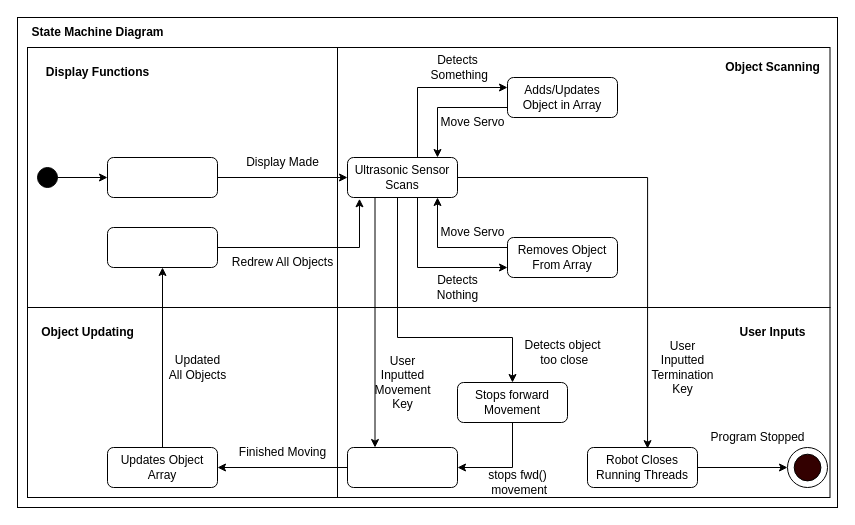
This 855x525 diagram has some shape labels left out. Each missing label, with the box of its shape:
Display Initalizes: (106, 156, 218, 198)
Robot Moves Set Interval: (346, 446, 458, 488)
Updating Display: (106, 226, 218, 268)
